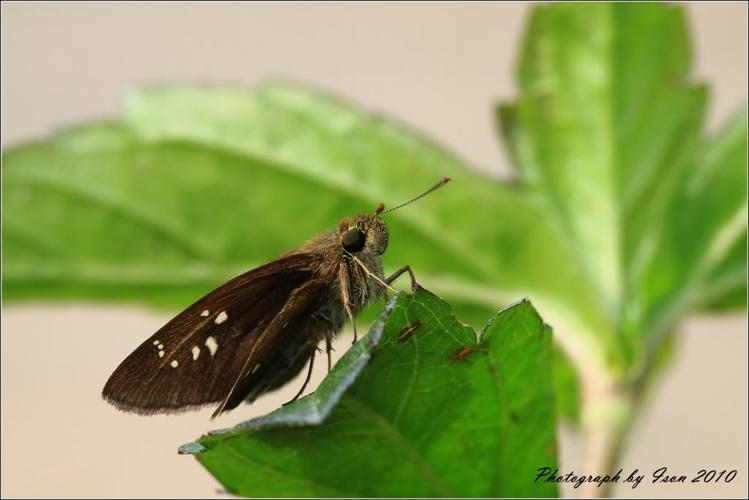Hesperiidae: (99, 174, 454, 417)
